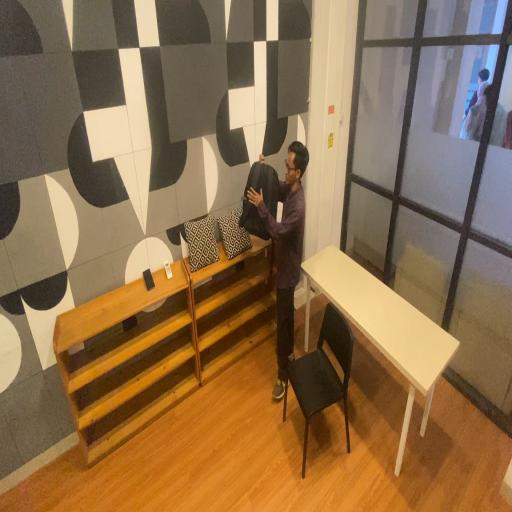bantal: (213, 204, 254, 260), (181, 216, 221, 272)
hp: (140, 264, 156, 295)
kursi: (280, 292, 360, 480)
lemari: (48, 255, 202, 475), (182, 204, 294, 389)
meja: (298, 238, 464, 496)
remote AC: (163, 259, 175, 282)
tas ransel: (237, 156, 281, 246)
